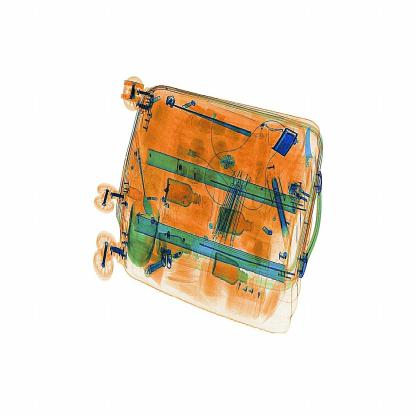wrench: (299, 118, 326, 201)
